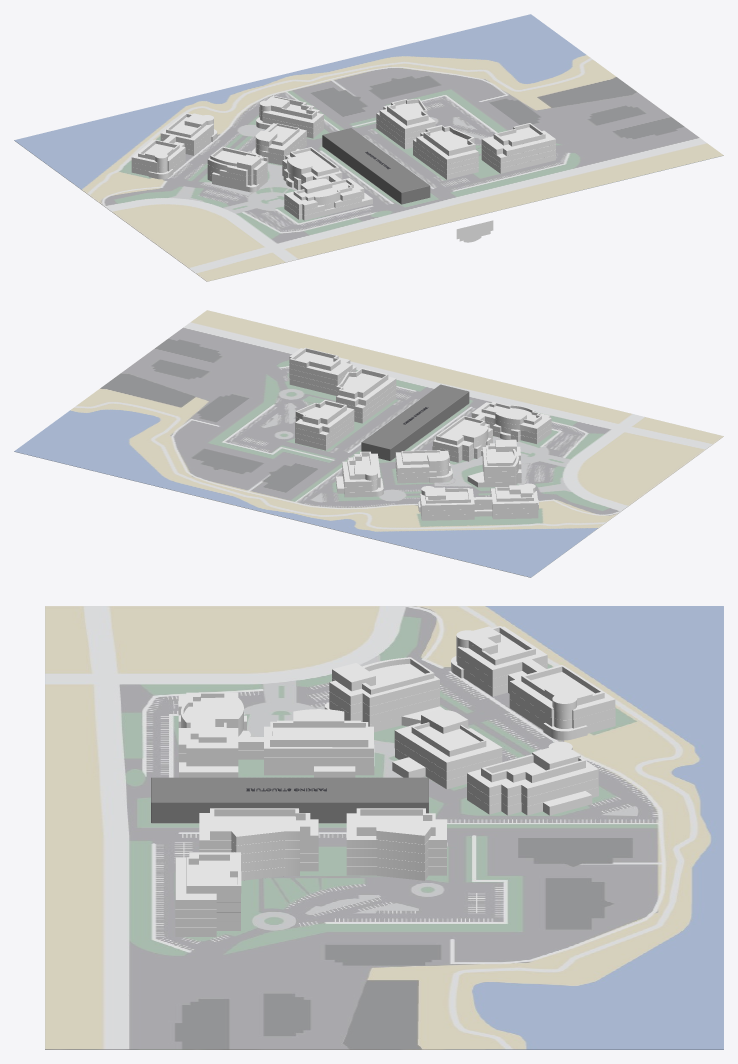
Rendered from portside-campus.glb.
3 renders of one model, top to bottom at view 1: azimuth 30°, elevation 25°; view 2: azimuth 150°, elevation 25°; view 3: azimuth 270°, elevation 25°, orthographic. The views are drawn at different scales.
Parts seen in each view (by area): view 1: Rectangle, Shape 0 (×11), Cube 334, Boolean 337 (×2), Boolean 339, Boolean, Boolean 336, Shape 1141, Boolean 338, Boolean 1145, Boolean 335, Shape 334 (+1 smaller); view 2: Rectangle, Shape 0 (×7), Cube 334, Boolean 337 (×3), Boolean 339, Boolean 336, Shape 1141, Boolean 338, Boolean, Boolean 335, Boolean 1145, Boolean 1143; view 3: Rectangle, Shape 0 (×25), Cube 334, Boolean 337 (×3), Shape 334 (×3), Boolean 339, Boolean 338, Shape 1141, Boolean 336, Boolean 1145, Boolean, Boolean 335 (+5 smaller).
Part boxes in pixels (bbox=[...]): Rectangle: bbox=[14, 14, 723, 281]; Shape 0 (×11): bbox=[131, 113, 555, 242]; Cube 334: bbox=[322, 128, 430, 204]; Boolean 337 (×2): bbox=[379, 104, 475, 155]; Boolean 339: bbox=[387, 98, 428, 125]; Boolean: bbox=[481, 130, 555, 156]; Boolean 336: bbox=[493, 123, 545, 146]; Shape 1141: bbox=[259, 104, 323, 127]; Boolean 338: bbox=[290, 147, 338, 176]; Boolean 1145: bbox=[293, 179, 353, 200]; Boolean 335: bbox=[416, 132, 478, 164]; Shape 334: bbox=[481, 144, 555, 162]; Rectangle: bbox=[14, 310, 723, 577]; Shape 0 (×7): bbox=[395, 401, 551, 520]; Cube 334: bbox=[361, 384, 469, 460]; Boolean 337 (×3): bbox=[295, 368, 440, 464]; Boolean 339: bbox=[295, 400, 346, 424]; Boolean 336: bbox=[289, 347, 340, 370]; Shape 1141: bbox=[342, 453, 380, 486]; Boolean 338: bbox=[436, 416, 485, 445]; Boolean: bbox=[289, 348, 352, 380]; Boolean 335: bbox=[336, 376, 396, 406]; Boolean 1145: bbox=[481, 402, 541, 424]; Boolean 1143: bbox=[425, 488, 470, 503]; Rectangle: bbox=[45, 606, 723, 1049]; Shape 0 (×25): bbox=[178, 626, 615, 880]; Cube 334: bbox=[151, 777, 428, 823]; Boolean 337 (×3): bbox=[210, 722, 486, 853]; Shape 334 (×3): bbox=[199, 844, 446, 871]; Boolean 339: bbox=[356, 808, 435, 844]; Boolean 338: bbox=[270, 721, 368, 747]; Shape 1141: bbox=[467, 761, 598, 797]; Boolean 336: bbox=[186, 852, 241, 893]; Boolean 1145: bbox=[181, 692, 226, 742]; Boolean: bbox=[175, 852, 240, 908]; Boolean 335: bbox=[199, 813, 318, 853].
Size of what is drawn, in the model's own units: 0.6 by 0.0469 by 0.406.
5 materials, 1 textured.
